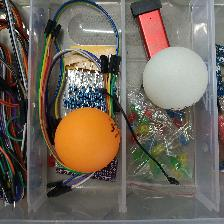WhiteBall: (142, 47, 208, 111)
YellowBall: (53, 107, 119, 172)
